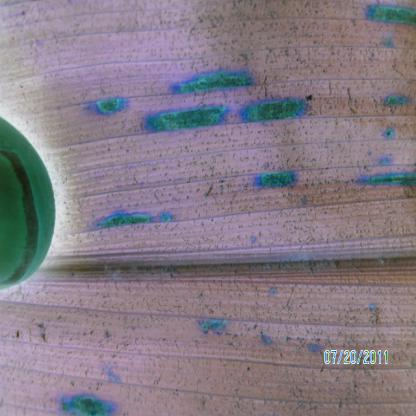Corn Gray leaf spot: (74, 29, 415, 324)
